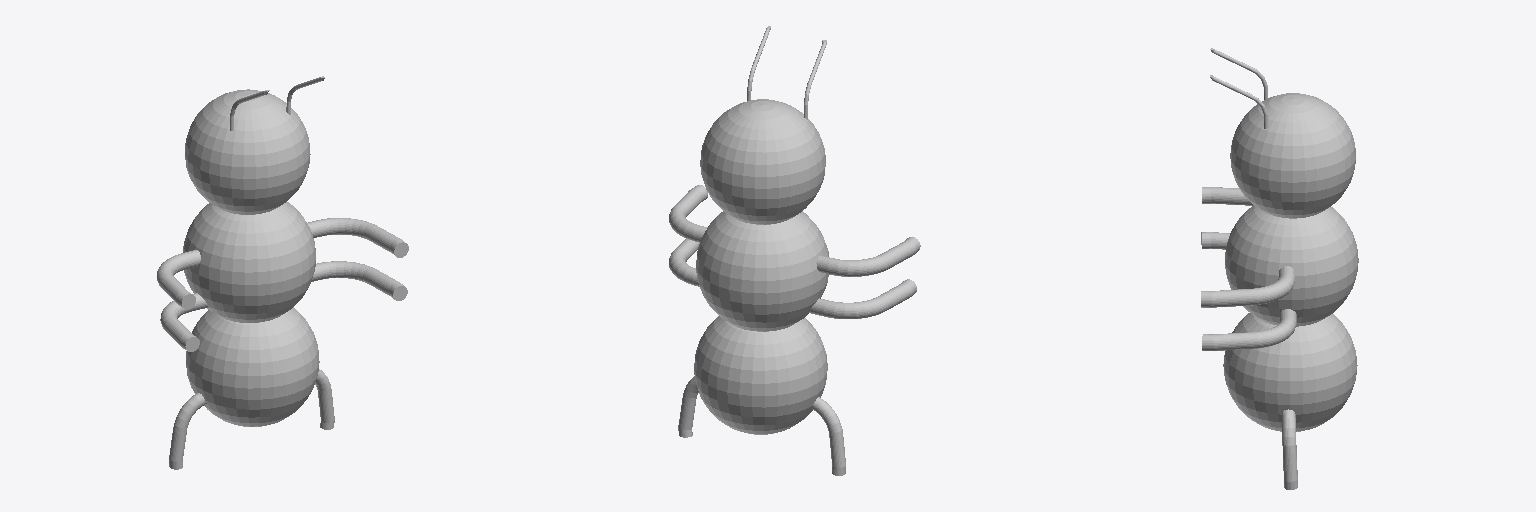
Rendered from ants.obj.
3 views of the same model, side by side, from view 1: azimuth 30°, elevation 25°; view 2: azimuth 150°, elevation 25°; view 3: azimuth 270°, elevation 25° (orthographic).
Visible parts, largest first — view 1: Sphere.001, Sphere.002, Sphere, Cylinder.002_Cylinder, Cylinder.007_Cylinder.006, Cylinder.003_Cylinder.001, Cylinder.006_Cylinder.005, Cylinder.005_Cylinder.004, Cylinder.004_Cylinder.002; view 2: Sphere.002, Sphere.001, Sphere, Cylinder.003_Cylinder.001, Cylinder.006_Cylinder.005, Cylinder.002_Cylinder, Cylinder.005_Cylinder.004, Cylinder.007_Cylinder.006, Cylinder.004_Cylinder.002; view 3: Sphere.002, Sphere.001, Sphere, Cylinder.007_Cylinder.006, Cylinder.002_Cylinder, Cylinder.004_Cylinder.002, Cylinder.003_Cylinder.001.
Part boxes in pixels (x1,y1,x2,y2): Sphere.001: (183, 202, 315, 322); Sphere.002: (185, 89, 310, 214); Sphere: (186, 307, 319, 426); Cylinder.002_Cylinder: (307, 218, 408, 257); Cylinder.007_Cylinder.006: (311, 261, 407, 300); Cylinder.003_Cylinder.001: (157, 250, 200, 309); Cylinder.006_Cylinder.005: (160, 293, 208, 351); Cylinder.005_Cylinder.004: (169, 393, 206, 469); Cylinder.004_Cylinder.002: (315, 369, 334, 429); Sphere.002: (700, 99, 825, 224); Sphere.001: (696, 211, 828, 331); Sphere: (694, 316, 827, 434); Cylinder.003_Cylinder.001: (816, 237, 920, 276); Cylinder.006_Cylinder.005: (809, 279, 916, 318); Cylinder.002_Cylinder: (669, 185, 707, 242); Cylinder.005_Cylinder.004: (812, 397, 845, 475); Cylinder.007_Cylinder.006: (669, 239, 699, 286); Cylinder.004_Cylinder.002: (678, 376, 698, 437); Sphere.002: (1230, 93, 1355, 218); Sphere.001: (1225, 206, 1358, 326); Sphere: (1223, 313, 1357, 431); Cylinder.007_Cylinder.006: (1202, 309, 1296, 350); Cylinder.002_Cylinder: (1201, 266, 1294, 307); Cylinder.004_Cylinder.002: (1282, 409, 1297, 489); Cylinder.003_Cylinder.001: (1202, 187, 1253, 205).
Size of the model in its own units: 3.92 by 6.44 by 2.35.